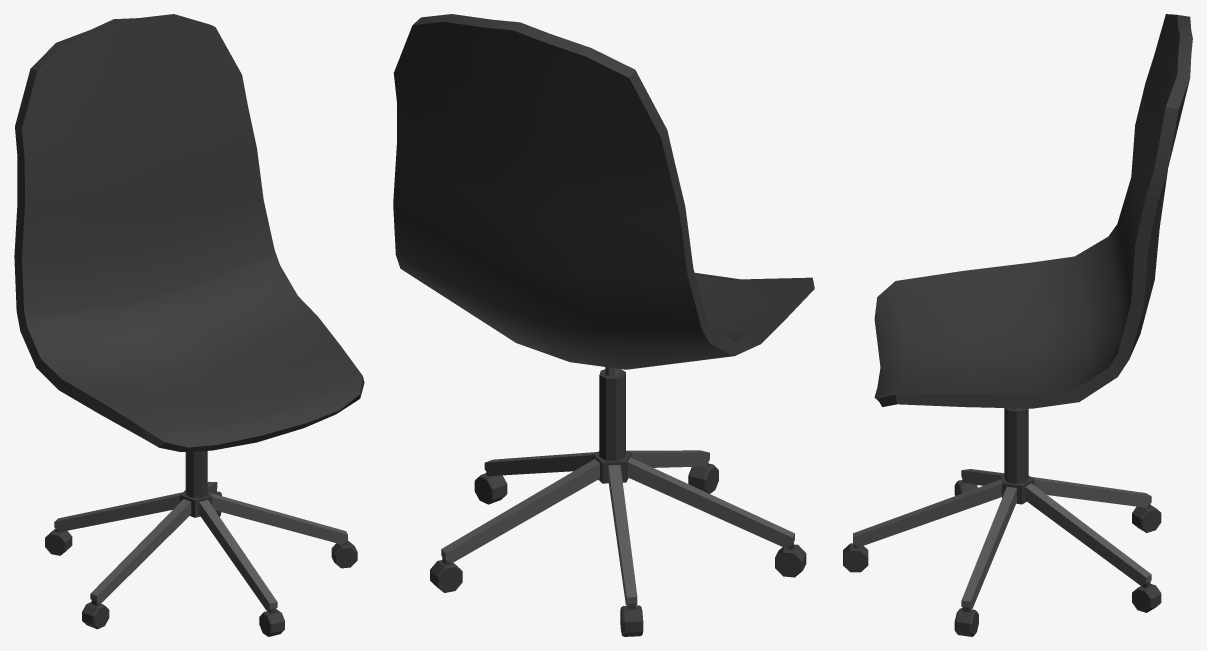
File: PC_Chair1_C1.fbx
The picture shows the model from 3 angles, left to right: view 1: azimuth 30°, elevation 25°; view 2: azimuth 150°, elevation 25°; view 3: azimuth 270°, elevation 25°; orthographic projection. The views are drawn at different scales.
Parts seen in each view (by area): view 1: PC_Chair1_C1; view 2: PC_Chair1_C1; view 3: PC_Chair1_C1.
Part boxes in pixels (left/top/right/bottom): PC_Chair1_C1: left=14, top=14, right=364, bottom=636; PC_Chair1_C1: left=393, top=14, right=814, bottom=636; PC_Chair1_C1: left=843, top=14, right=1192, bottom=636.
Bounding box in the file's own units: 64.14 × 113 × 67.1.
